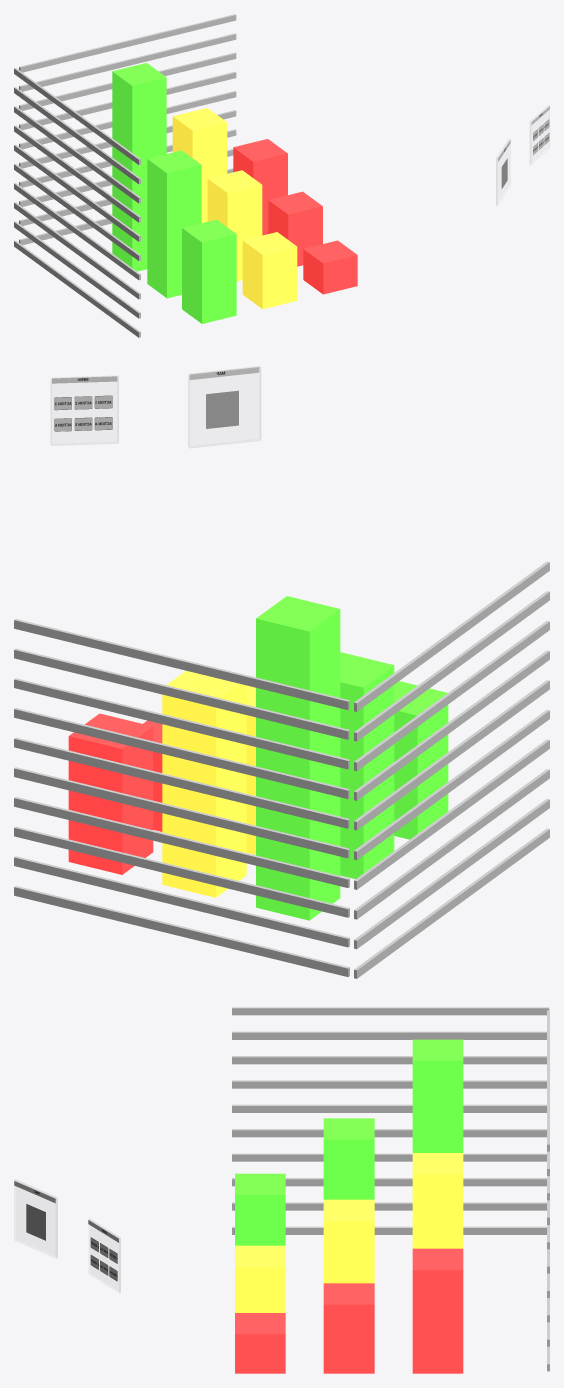
File: graph.fbx
3 views of the same model, one above another, from view 1: azimuth 30°, elevation 25°; view 2: azimuth 150°, elevation 25°; view 3: azimuth 270°, elevation 25° (orthographic). The views are drawn at different scales.
Parts seen in each view (by area): view 1: Cube_6_3, Cube_3_3, Cube_0_3, Cube_1_4, Cube_4_3, Cube_7_3, Cube_5_3, Cube_8_3, Cube_2_3, Cube_9, Cube_8, Cube_7 (+18 smaller); view 2: Cube_6_3, Cube_7_3, Cube_8_3, Cube_3_3, Cube_0_3, Cube_1_2, Cube_4, Cube_7, Cube_3, Cube_9, Cube_2, Cube_5 (+17 smaller); view 3: Cube_8_3, Cube_6_3, Cube_7_3, Cube_5_3, Cube_4_3, Cube_3_3, Cube_0_3, Cube_1_4, Cube_2_3, Cube_9_2, Cube_8_2, Cube_5_2 (+9 smaller).
Boxes of the visible parts, x1,y1,x2,y2 form: Cube_6_3: (112, 63, 166, 271); Cube_3_3: (147, 150, 201, 298); Cube_0_3: (182, 219, 236, 323); Cube_1_4: (242, 232, 297, 309); Cube_4_3: (207, 170, 262, 281); Cube_7_3: (172, 108, 227, 222); Cube_5_3: (268, 191, 322, 266); Cube_8_3: (233, 139, 287, 235); Cube_2_3: (303, 240, 357, 294); Cube_9: (19, 14, 236, 72); Cube_8: (19, 33, 236, 91); Cube_7: (19, 52, 236, 110); Cube_6_3: (256, 596, 340, 920); Cube_7_3: (162, 670, 246, 897); Cube_8_3: (68, 713, 153, 874); Cube_3_3: (340, 652, 394, 879); Cube_0_3: (394, 681, 448, 839); Cube_1_2: (14, 856, 349, 947); Cube_4: (14, 767, 349, 858); Cube_7: (14, 678, 349, 769); Cube_3: (14, 797, 349, 887); Cube_9: (14, 619, 349, 709); Cube_2: (14, 826, 349, 917); Cube_5: (14, 737, 349, 828); Cube_8_3: (412, 1248, 463, 1373); Cube_6_3: (412, 1039, 463, 1152); Cube_7_3: (412, 1153, 463, 1248); Cube_5_3: (323, 1283, 374, 1373); Cube_4_3: (323, 1199, 374, 1283); Cube_3_3: (323, 1118, 374, 1199); Cube_0_3: (235, 1173, 285, 1245); Cube_1_4: (235, 1245, 285, 1312); Cube_2_3: (235, 1313, 285, 1373); Cube_9_2: (232, 1007, 549, 1015); Cube_8_2: (232, 1031, 546, 1039); Cube_5_2: (232, 1104, 546, 1112).
Bounding box in the file's own units: 2121 × 1033 × 2111.
Materials: 6 (2 with a texture image).
